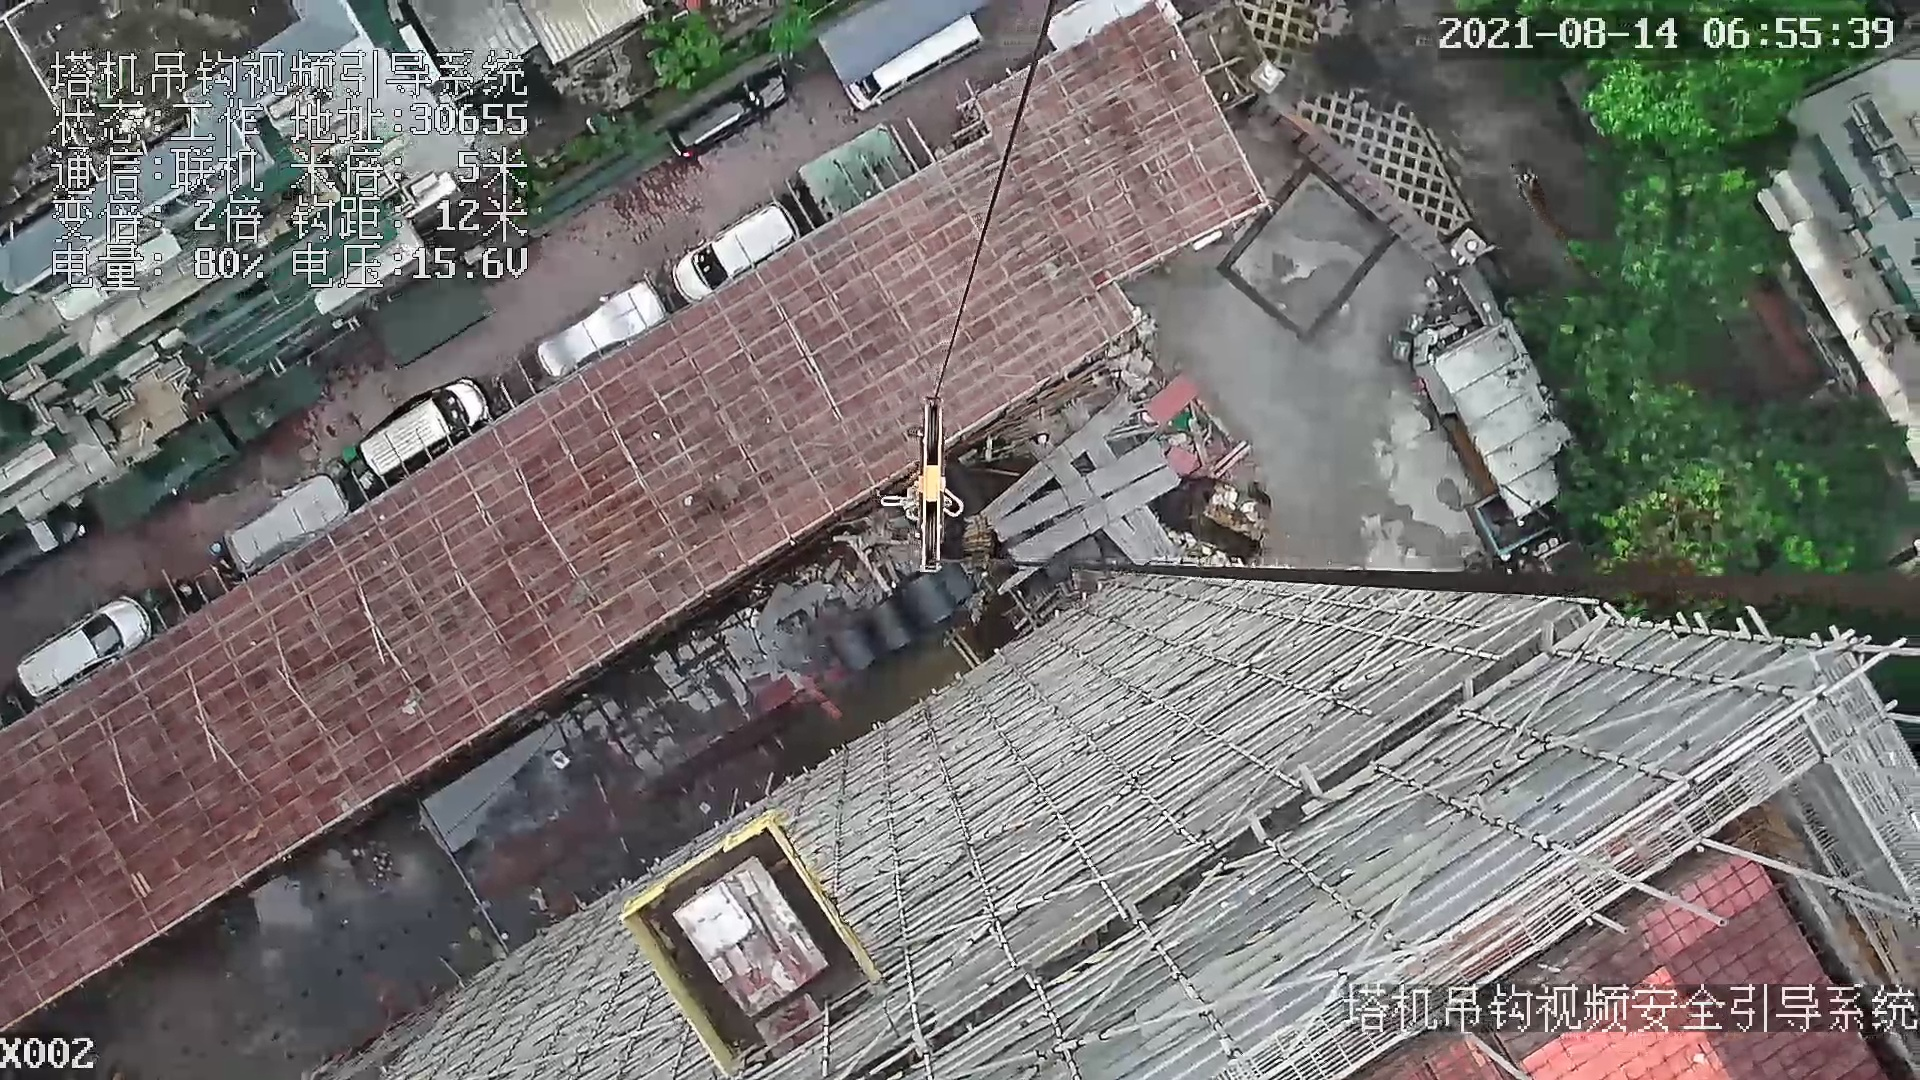board: (669, 858, 829, 1018)
hook: (915, 392, 965, 578)
rebar: (978, 393, 1135, 526), (1010, 465, 1180, 572), (994, 438, 1166, 541), (1125, 505, 1178, 559), (1104, 520, 1151, 566)
